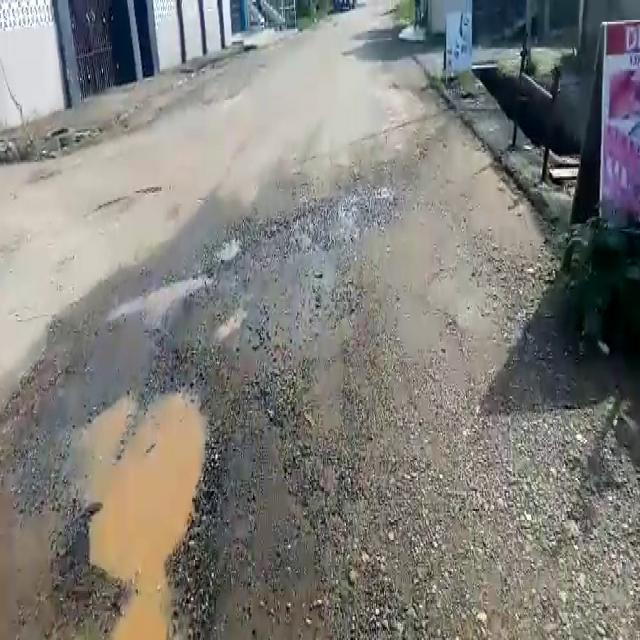Pothole: (74, 386, 206, 591)
